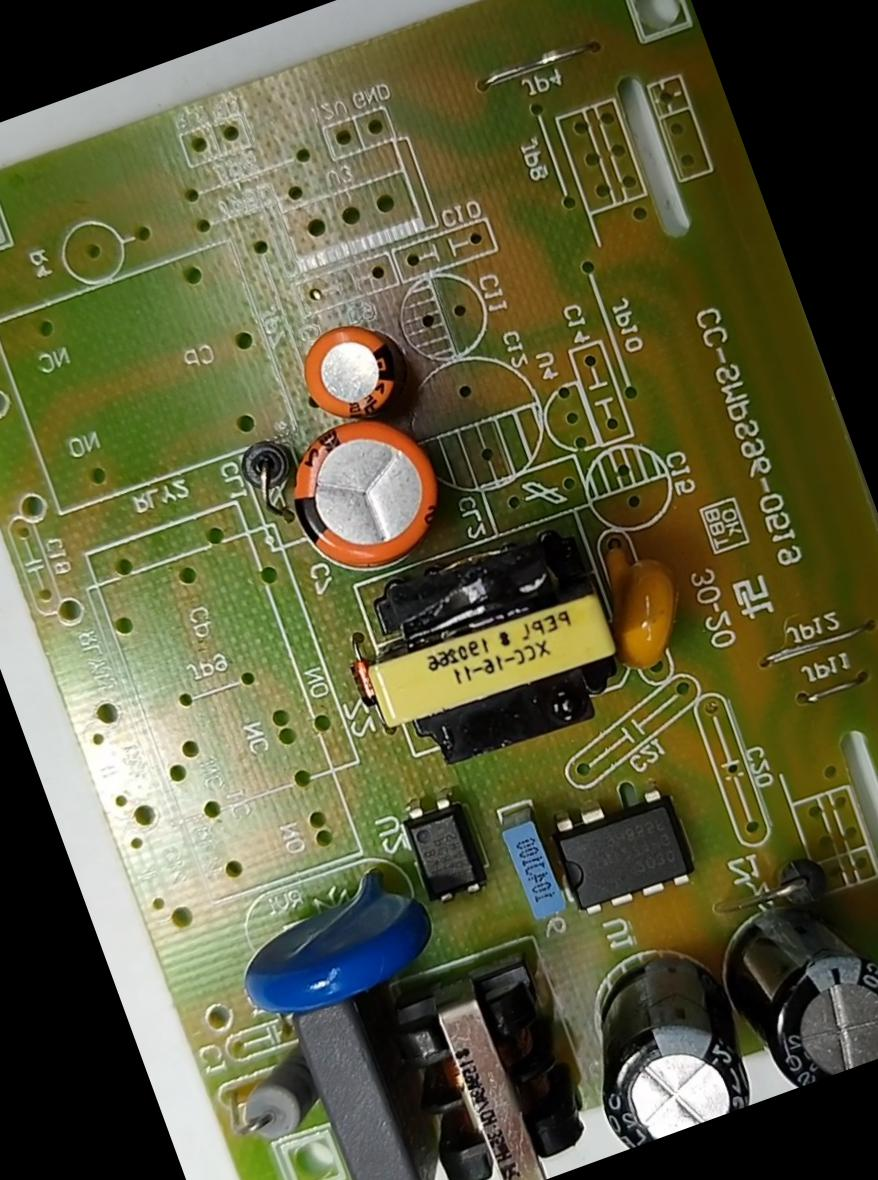Cap1: (264, 386, 467, 593)
Cap2: (283, 313, 406, 435)
Cap3: (556, 928, 767, 1152)
Cap4: (705, 869, 877, 1098)
MOSFET: (542, 772, 708, 927)
Mov: (220, 870, 452, 1032)
Resistor: (218, 1042, 328, 1160)
Transformer: (328, 512, 640, 795), (369, 933, 606, 1179)
